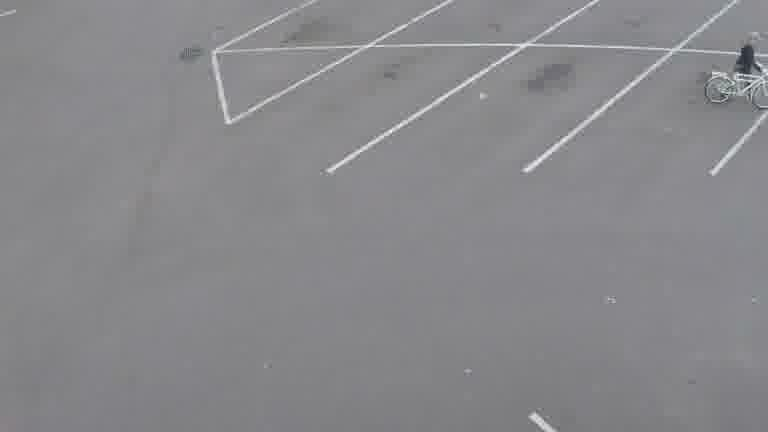bike: (702, 33, 768, 122)
